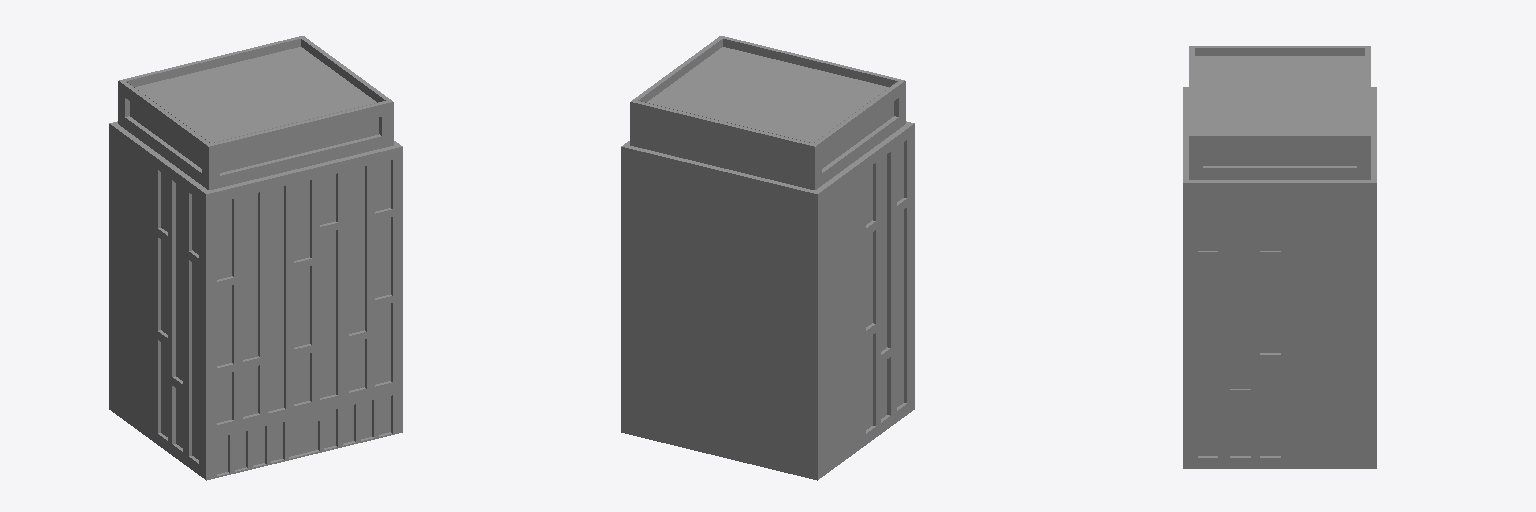
Rendered from buildingnearchest.obj.
3 views of the same model, side by side, from view 1: azimuth 30°, elevation 25°; view 2: azimuth 150°, elevation 25°; view 3: azimuth 270°, elevation 25° (orthographic).
Visible parts, largest first — view 1: Building11; view 2: Building11; view 3: Building11.
Part boxes in pixels (x1,y1,x2,y2): Building11: (109,36,402,480); Building11: (621,36,914,480); Building11: (1183,46,1376,468).
Bounding box in the file's own units: 1.18 × 1.9 × 1.01.